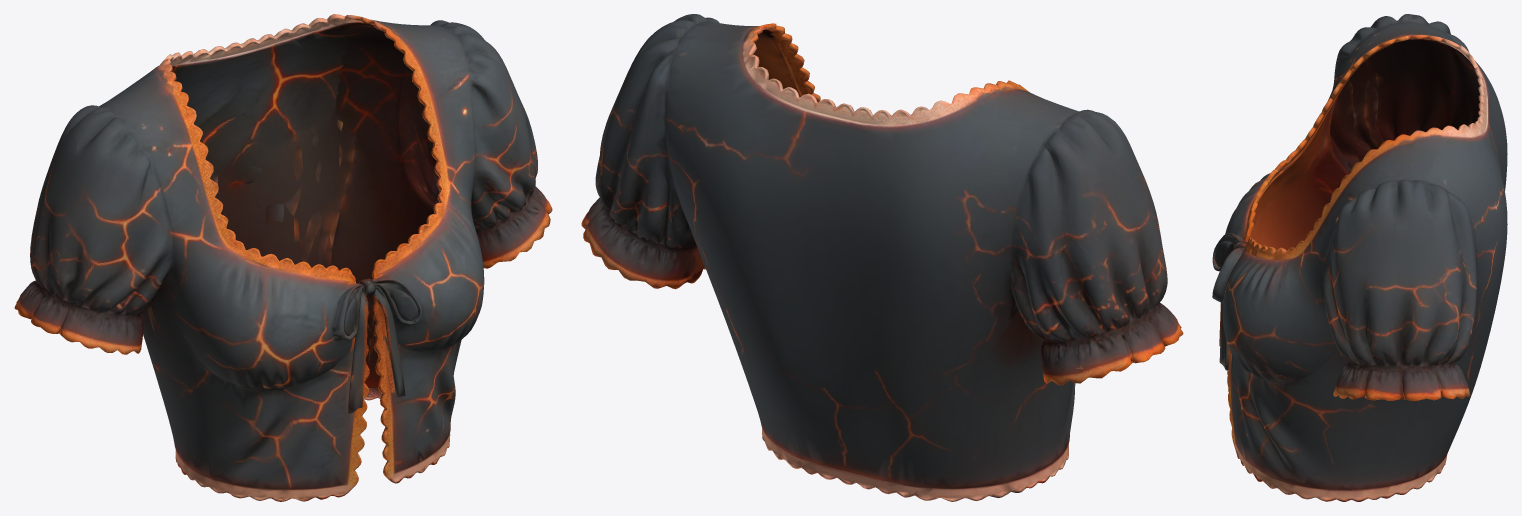
Rendered from DFS -02.glb.
The picture shows the model from 3 angles, left to right: view 1: azimuth 30°, elevation 25°; view 2: azimuth 150°, elevation 25°; view 3: azimuth 270°, elevation 25°; orthographic projection. The views are drawn at different scales.
Visible parts, largest first — view 1: Mesh_0; view 2: Mesh_0; view 3: Mesh_0.
Boxes of the visible parts, x1,y1,x2,y2 form: Mesh_0: [14, 14, 552, 501]; Mesh_0: [581, 14, 1183, 501]; Mesh_0: [1212, 14, 1507, 501].
Size of the model in its own units: 1.18 by 0.8214 by 0.6048.
1 material, 1 textured.
